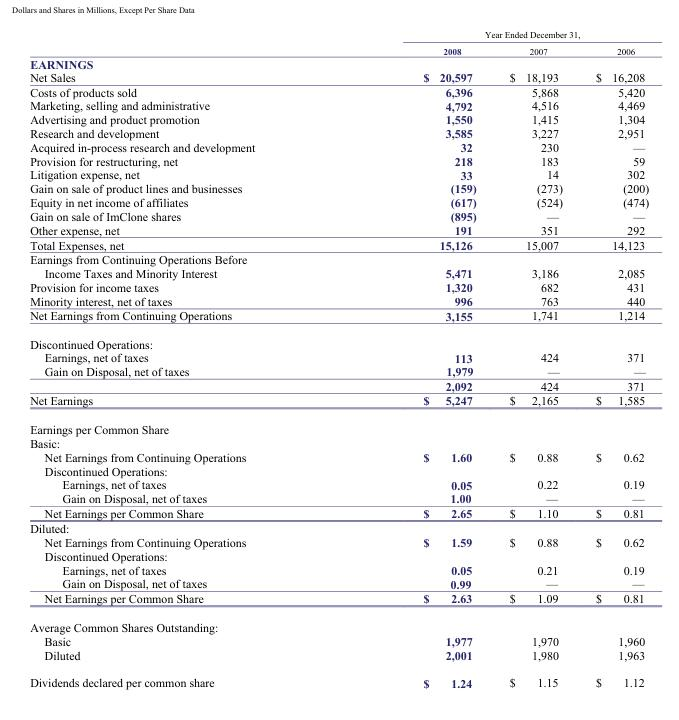table: (29, 29, 648, 689)
table column: (29, 29, 338, 689), (338, 29, 492, 689), (492, 29, 578, 689), (578, 29, 648, 689)
table column header: (29, 29, 648, 56)
table projected row header: (29, 414, 648, 436), (29, 612, 648, 634), (29, 329, 648, 350), (29, 520, 648, 535), (29, 56, 648, 70), (29, 463, 648, 477), (29, 548, 648, 562), (29, 436, 648, 449)
table row: (29, 251, 648, 280), (29, 392, 648, 414), (29, 414, 648, 436), (29, 590, 648, 612), (29, 612, 648, 634), (29, 308, 648, 329), (29, 329, 648, 350), (29, 647, 648, 668), (29, 668, 648, 689), (29, 222, 648, 237), (29, 505, 648, 520), (29, 520, 648, 535), (29, 42, 648, 56), (29, 56, 648, 70), (29, 70, 648, 84), (29, 84, 648, 98), (29, 98, 648, 112), (29, 112, 648, 126), (29, 139, 648, 153), (29, 153, 648, 167), (29, 167, 648, 181), (29, 181, 648, 195), (29, 208, 648, 222), (29, 237, 648, 251), (29, 280, 648, 294), (29, 294, 648, 308), (29, 350, 648, 364), (29, 364, 648, 378), (29, 378, 648, 392), (29, 449, 648, 463), (29, 463, 648, 477), (29, 477, 648, 491), (29, 491, 648, 505), (29, 548, 648, 562), (29, 562, 648, 576), (29, 576, 648, 590), (29, 29, 648, 42), (29, 126, 648, 139), (29, 195, 648, 208), (29, 436, 648, 449), (29, 535, 648, 548), (29, 634, 648, 647)
table spanning cell: (338, 29, 648, 42)
